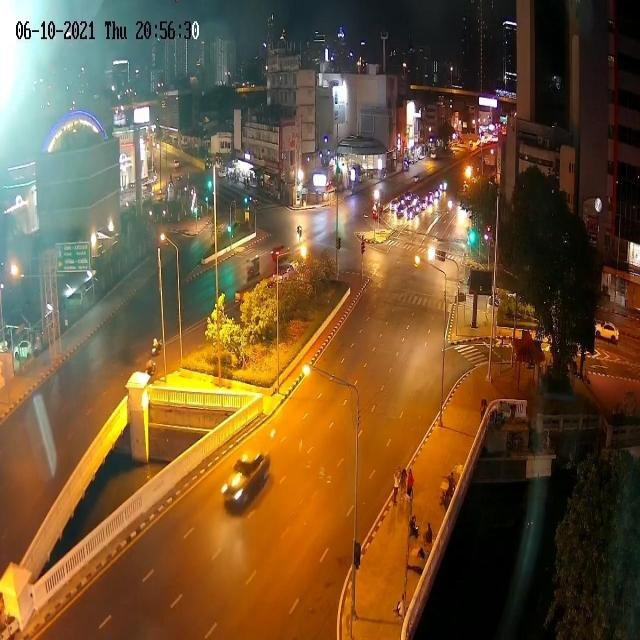Car: (215, 446, 278, 518), (391, 180, 448, 220), (267, 264, 298, 288), (594, 321, 620, 343), (392, 194, 414, 218), (14, 339, 33, 362), (271, 245, 287, 266), (246, 257, 259, 281), (151, 337, 162, 357), (439, 181, 447, 193), (173, 159, 180, 169), (412, 174, 420, 182)
